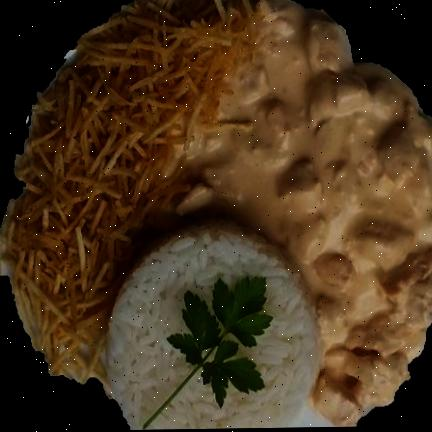chicken: (178, 0, 432, 362)
potato: (0, 0, 256, 383)
rice: (104, 221, 331, 430)
